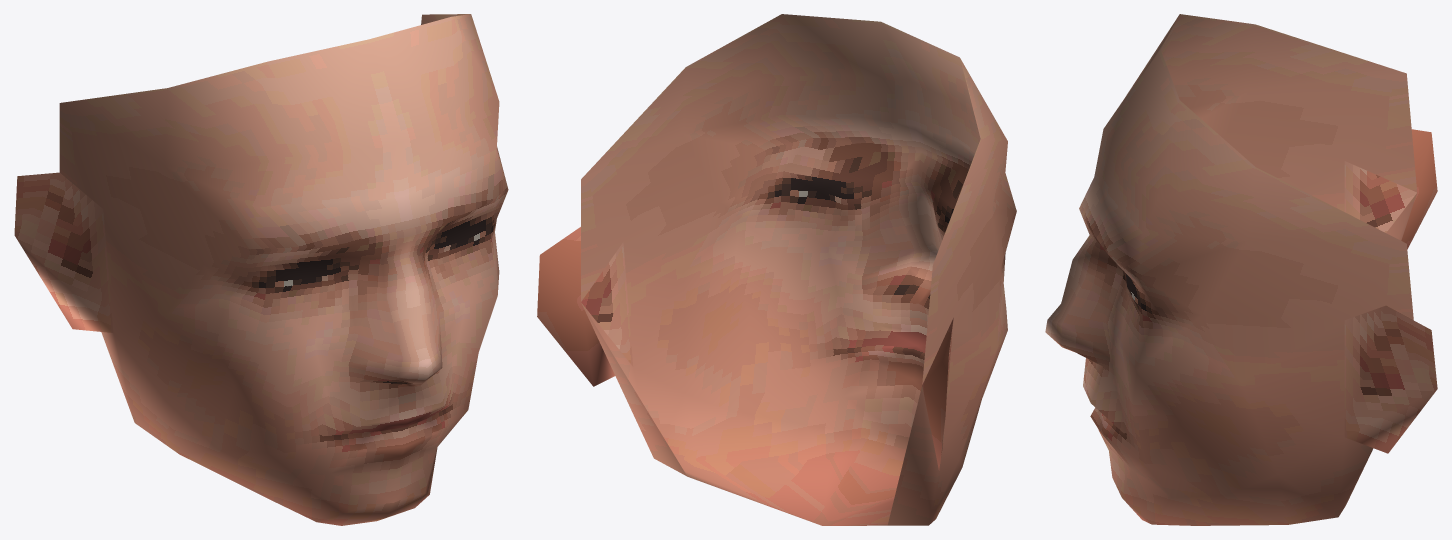
Rendered from m_hair009.glb.
The picture shows the model from 3 angles, left to right: view 1: azimuth 30°, elevation 25°; view 2: azimuth 150°, elevation 25°; view 3: azimuth 270°, elevation 25°; orthographic projection. The views are drawn at different scales.
Bounding box in the file's own units: 17.18 × 18.54 × 14.4.
1 material, 1 textured.
